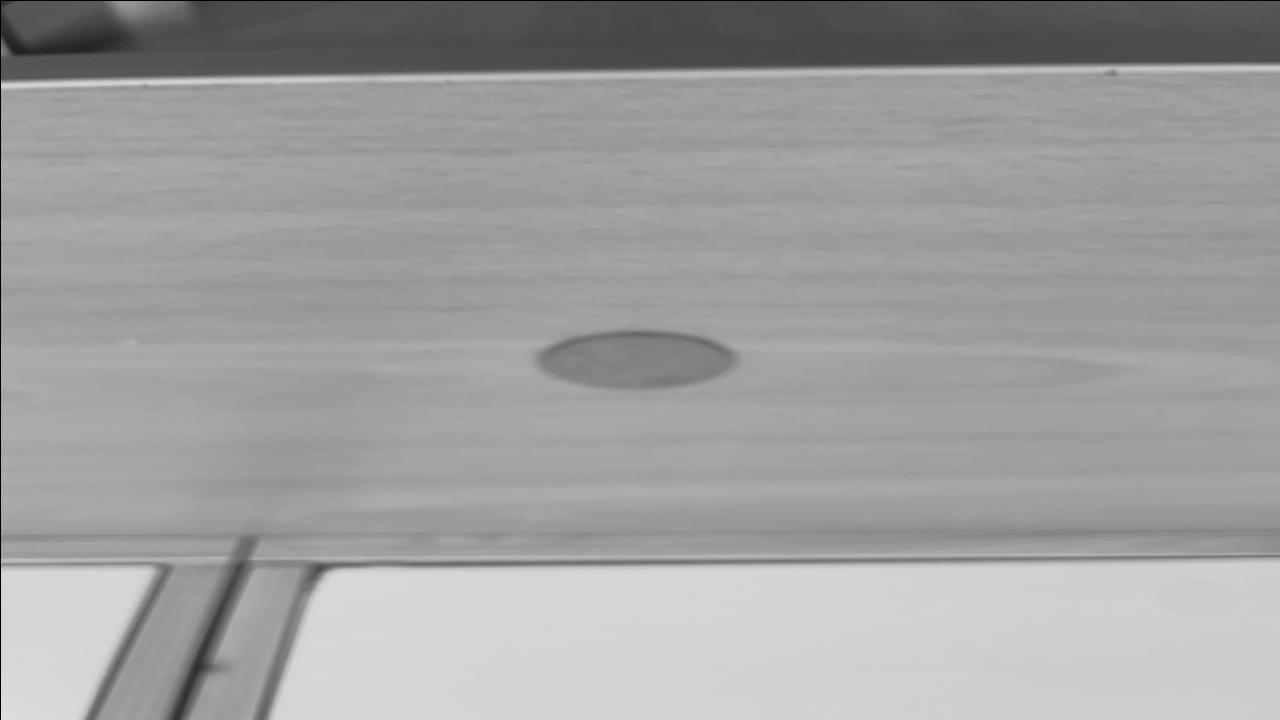coin: (532, 331, 738, 391)
